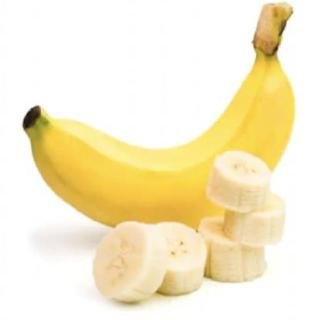banana: (21, 64, 298, 244)
